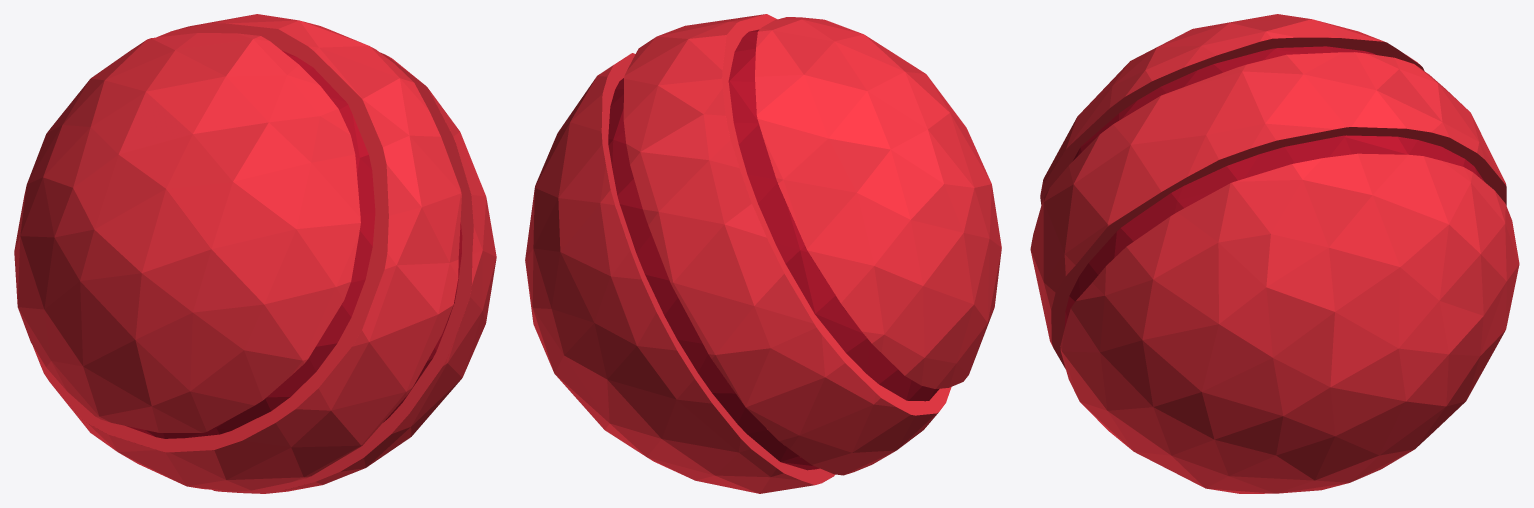
File: Ball_01_Rubber.glb
3 renders of one model, left to right at view 1: azimuth 30°, elevation 25°; view 2: azimuth 150°, elevation 25°; view 3: azimuth 270°, elevation 25°, orthographic.
Parts seen in each view (by area): view 1: Ball_01_Rubber.001; view 2: Ball_01_Rubber.001; view 3: Ball_01_Rubber.001.
Part boxes in pixels (x1=…): Ball_01_Rubber.001: x1=14, y1=14, x2=496, y2=493; Ball_01_Rubber.001: x1=525, y1=14, x2=1001, y2=493; Ball_01_Rubber.001: x1=1030, y1=14, x2=1519, y2=493.
Bounding box in the file's own units: 2 × 2.02 × 2.02.
Materials: 1 (1 with a texture image).
